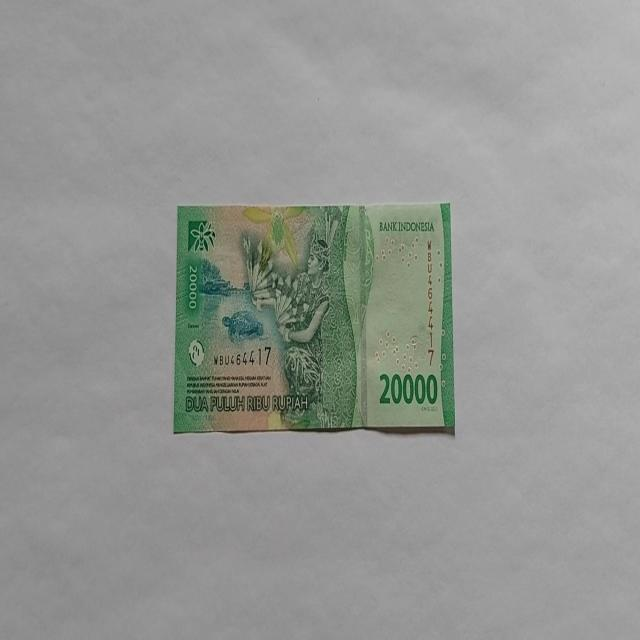dua puluh ribu rupiah: (172, 201, 456, 435)
